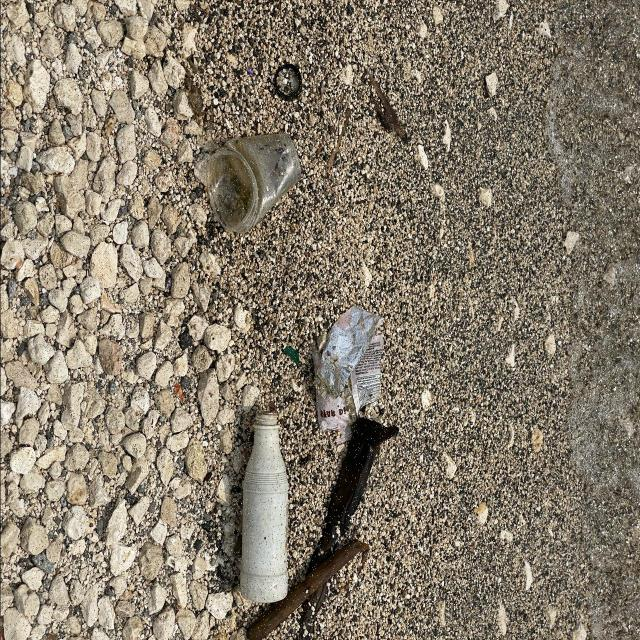plastic_waste: (316, 306, 385, 445), (240, 415, 290, 605), (209, 137, 302, 237)
